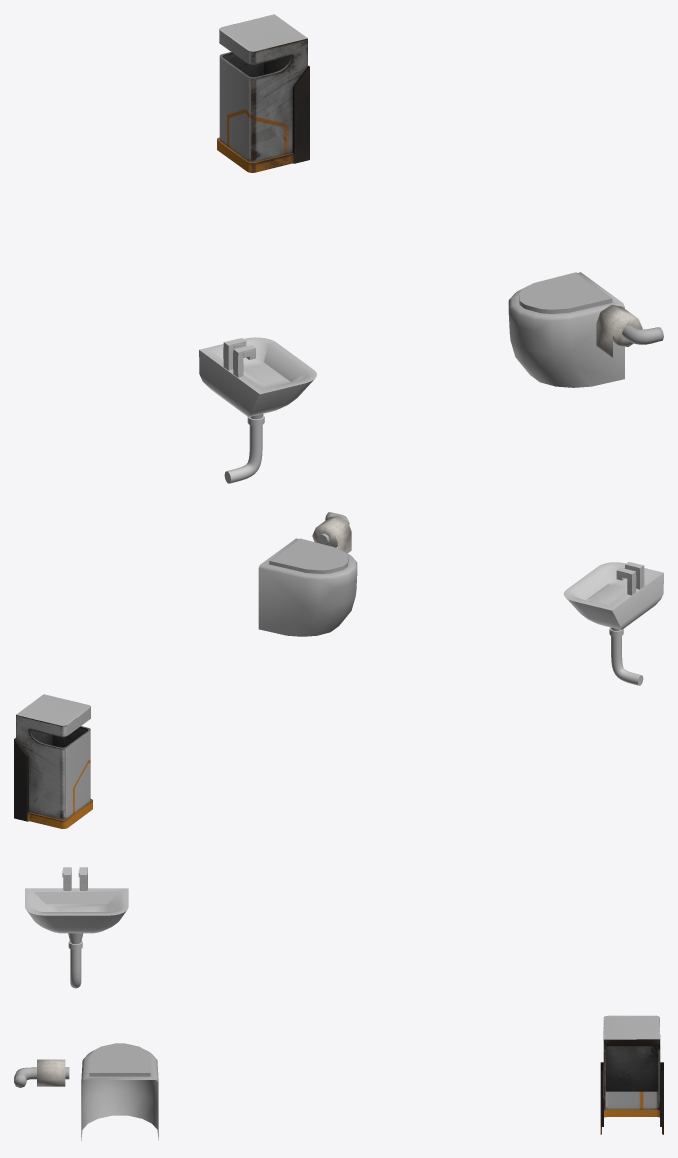
The model's file is Bathroom.fbx.
3 renders of one model, top to bottom at view 1: azimuth 30°, elevation 25°; view 2: azimuth 150°, elevation 25°; view 3: azimuth 270°, elevation 25°, orthographic. The views are drawn at different scales.
Visible parts, largest first — view 1: Bin.011, Cube.084, Cube.093; view 2: Bin.011, Cube.084, Cube.093; view 3: Cube.084, Bin.011, Cube.093.
Part boxes in pixels (x1,y1,x2,y2): Bin.011: (217,14,309,172); Cube.084: (508,272,663,387); Cube.093: (199,337,316,483); Bin.011: (14,694,92,828); Cube.084: (258,512,357,636); Cube.093: (563,562,663,685); Cube.084: (14,1043,158,1140); Bin.011: (600,1015,663,1134); Cube.093: (25,867,128,988).
Size of the model in its own units: 438 by 141 by 722.
